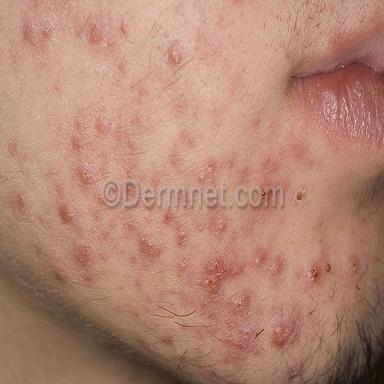acne: (203, 251, 243, 294), (23, 18, 53, 47), (226, 327, 253, 355), (271, 322, 294, 346), (139, 235, 163, 257), (229, 289, 250, 314), (198, 154, 217, 180), (73, 244, 92, 267), (77, 165, 94, 185), (95, 116, 112, 135), (290, 185, 306, 205), (89, 23, 103, 45), (168, 42, 181, 65), (306, 261, 319, 283), (58, 204, 73, 223), (252, 247, 266, 267), (215, 216, 228, 234), (270, 258, 283, 275), (53, 268, 67, 283), (349, 255, 361, 272), (177, 227, 187, 246), (71, 135, 82, 152), (17, 193, 26, 213), (119, 18, 127, 37), (163, 209, 173, 224), (74, 118, 83, 131), (179, 257, 187, 271)
